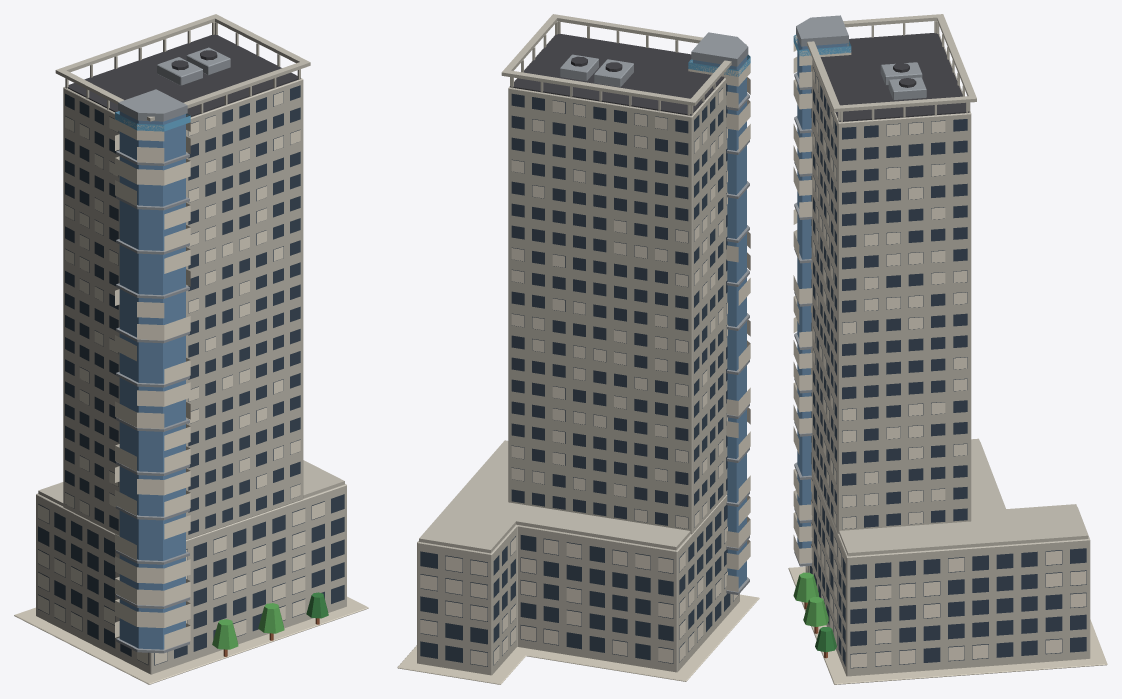
File: 150-california-street.glb
3 views of the same model, side by side, from view 1: azimuth 30°, elevation 25°; view 2: azimuth 150°, elevation 25°; view 3: azimuth 270°, elevation 25° (orthographic). The views are drawn at different scales.
Parts seen in each view (by area): view 1: 150-california-street_body, 150-california-street_night_glow; view 2: 150-california-street_body, 150-california-street_night_glow; view 3: 150-california-street_body, 150-california-street_night_glow.
Part boxes in pixels (x1,y1,x2,y2): 150-california-street_body: (14, 14, 368, 684); 150-california-street_night_glow: (38, 91, 324, 664); 150-california-street_body: (397, 14, 759, 684); 150-california-street_night_glow: (420, 54, 750, 666); 150-california-street_body: (788, 14, 1107, 684); 150-california-street_night_glow: (793, 34, 1086, 667).
Bounding box in the file's own units: 51.17 × 101 × 52.77.
